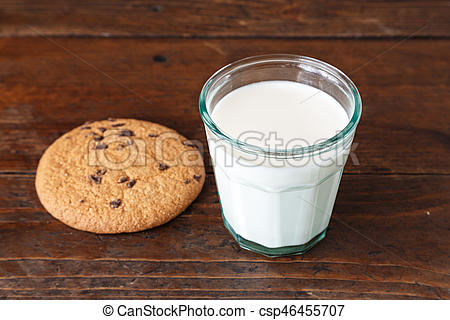glass of milk: (211, 82, 349, 249)
